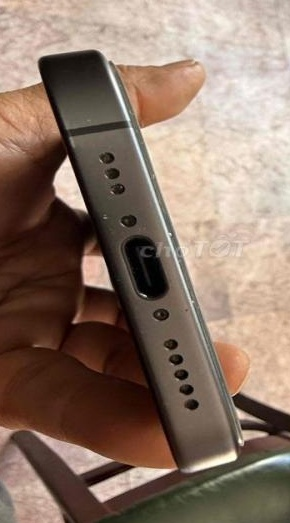scratch: (56, 104, 96, 152), (103, 197, 122, 239)
